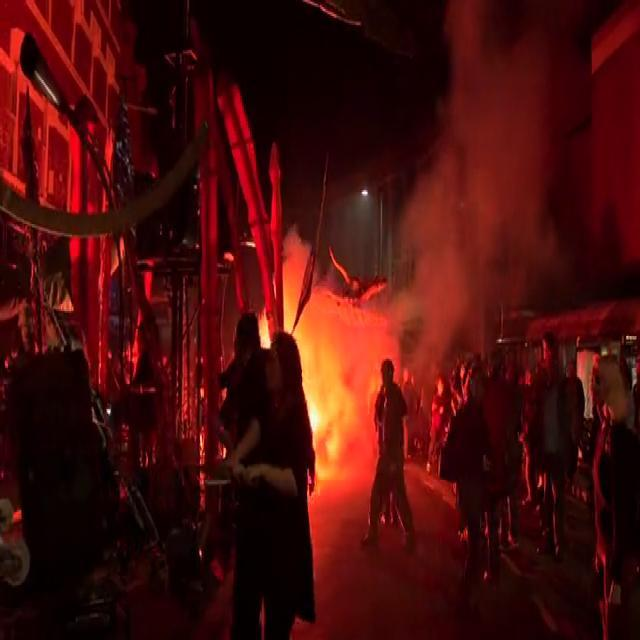fire: (313, 300, 382, 362), (302, 336, 358, 412), (315, 390, 358, 480), (283, 251, 308, 301)
smoke: (488, 130, 564, 230), (426, 171, 492, 270), (482, 12, 544, 110), (454, 74, 499, 149), (421, 274, 468, 330), (446, 6, 484, 58), (405, 200, 429, 240)
